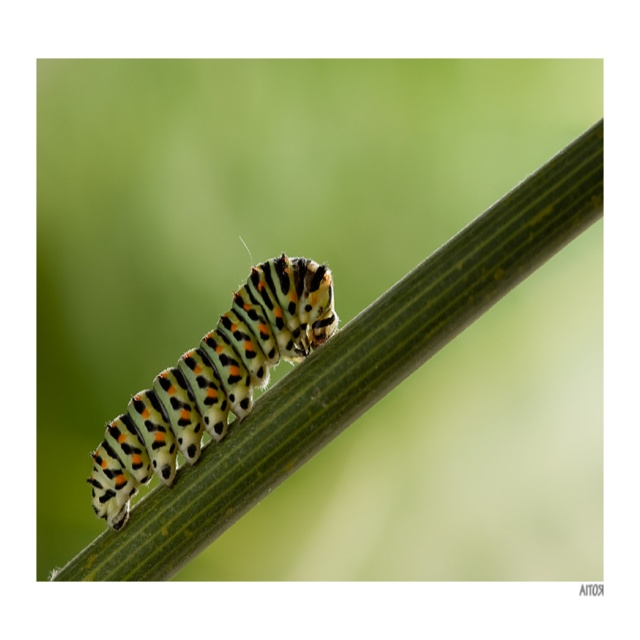Caterpillar: (86, 234, 342, 531)
